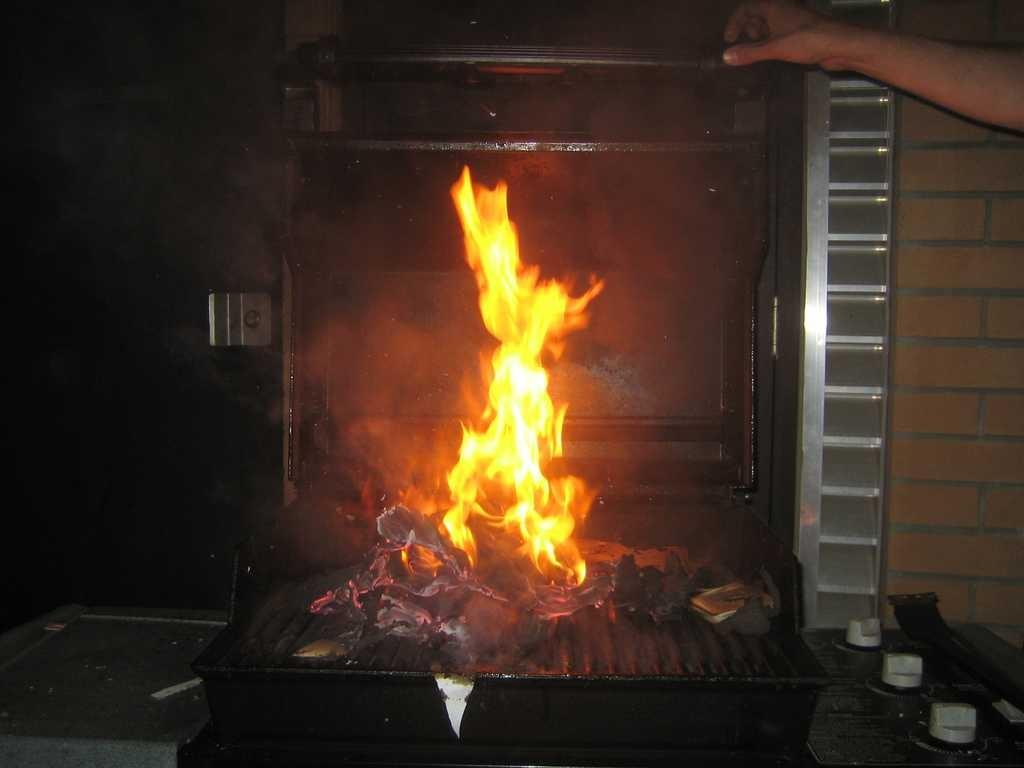fire: (492, 374, 540, 524), (468, 188, 504, 286), (482, 296, 556, 330)
